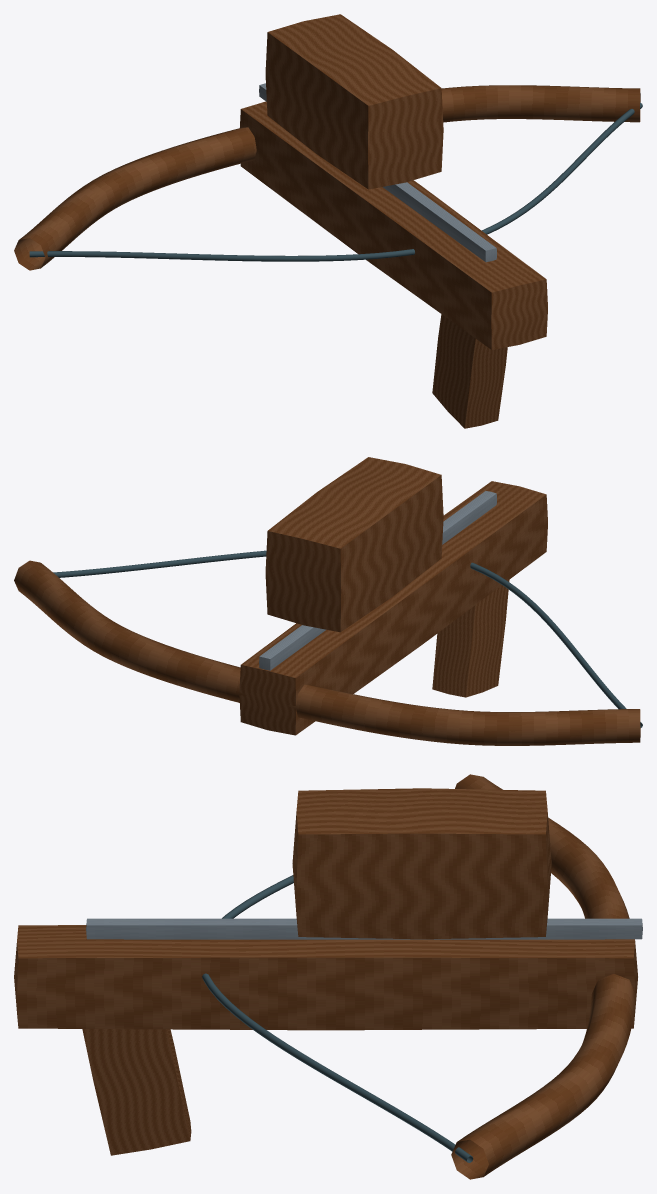
Rendered from repeating-crossbow.glb.
The picture shows the model from 3 angles, top to bottom: view 1: azimuth 30°, elevation 25°; view 2: azimuth 150°, elevation 25°; view 3: azimuth 270°, elevation 25°; orthographic projection. The views are drawn at different scales.
Parts seen in each view (by area): view 1: wood.0, wood.5, wood.2, wood.1, cloth.3, steel.4; view 2: wood.0, wood.5, wood.2, wood.1, cloth.3, steel.4; view 3: wood.0, wood.5, wood.2, wood.1, steel.4, cloth.3.
Boxes of the visible parts, left/top/right/bottom form: wood.0: left=240, top=101, right=547, bottom=349; wood.5: left=265, top=14, right=443, bottom=189; wood.2: left=14, top=85, right=640, bottom=270; wood.1: left=432, top=314, right=507, bottom=428; cloth.3: left=29, top=102, right=642, bottom=261; steel.4: left=259, top=83, right=496, bottom=262; wood.0: left=239, top=481, right=547, bottom=735; wood.5: left=265, top=457, right=443, bottom=632; wood.2: left=14, top=560, right=640, bottom=745; wood.1: left=432, top=580, right=509, bottom=697; cloth.3: left=53, top=550, right=642, bottom=727; steel.4: left=259, top=491, right=496, bottom=670; wood.0: left=14, top=925, right=637, bottom=1030; wood.5: left=292, top=788, right=551, bottom=939; wood.2: left=451, top=774, right=635, bottom=1179; wood.1: left=82, top=1029, right=191, bottom=1155; steel.4: left=86, top=918, right=642, bottom=939; cloth.3: left=202, top=875, right=473, bottom=1162.
Bounding box in the file's own units: 0.9237 × 0.3899 × 0.655.
3 materials, 3 textured.
